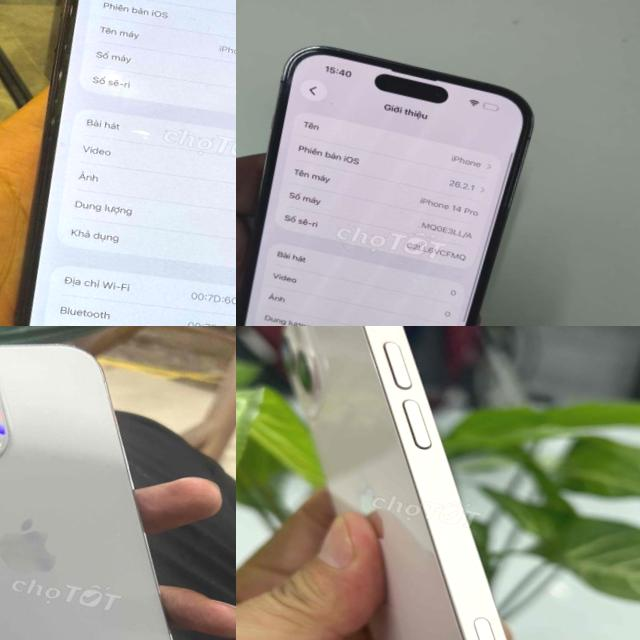gen_11: (15, 0, 236, 326)
gen_12_13: (236, 326, 640, 640)
gen_14: (236, 34, 538, 326)
gen_15: (0, 326, 236, 640)
